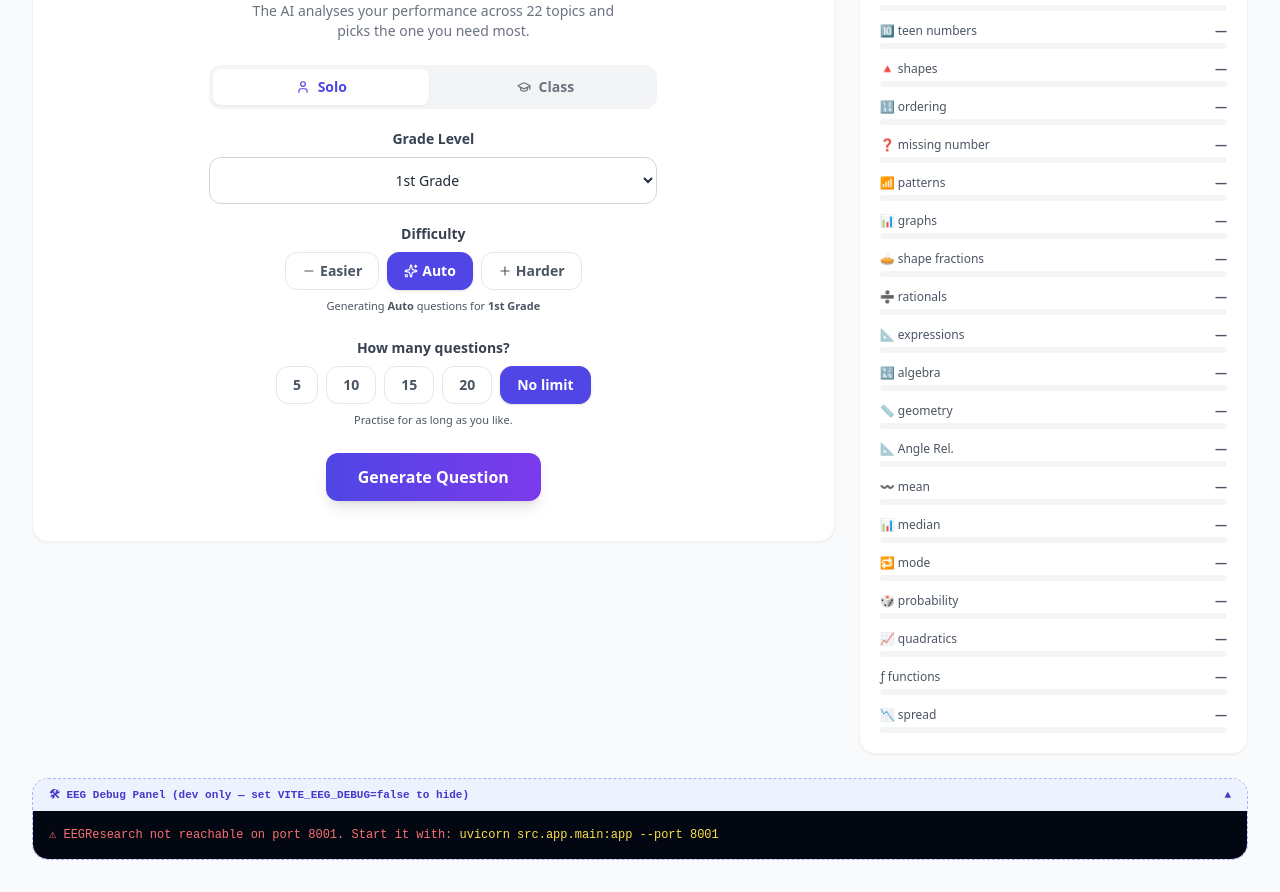
Test: keeps RECORDING for the channels being saved and names only the one that is not
(page scrolled)
Click the button "Generate Question": (433, 476) top-left (326, 452), bottom-right (541, 500)
(page scrolled)
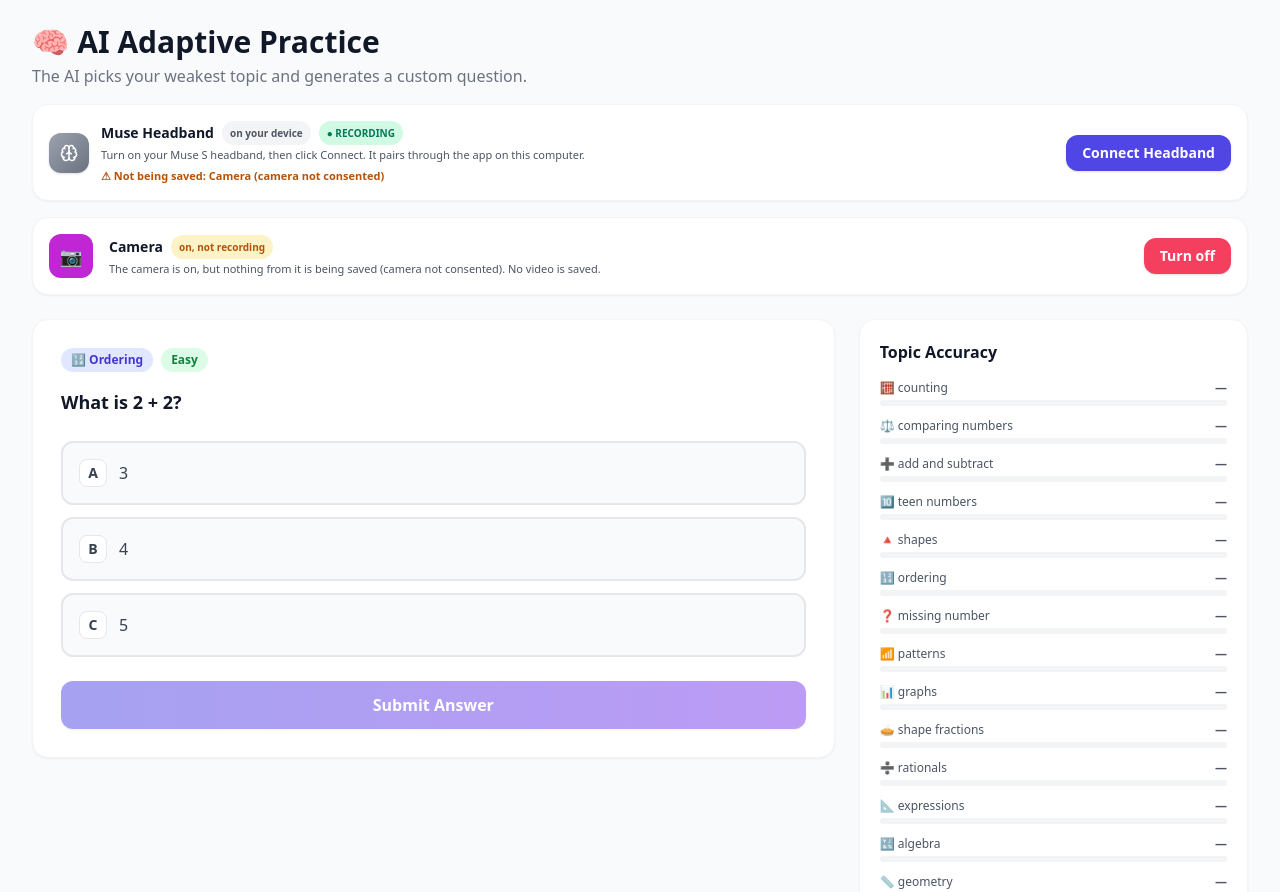
Now the text "What is 2 + 2?" is shown, box top-left (61, 390), bottom-right (182, 414)
Now the text "⚠ Not being saved: Camera (camera not consented)" is shown, box top-left (101, 168), bottom-right (384, 182)
Now the text "● RECORDING" is shown, box top-left (319, 121), bottom-right (403, 145)
